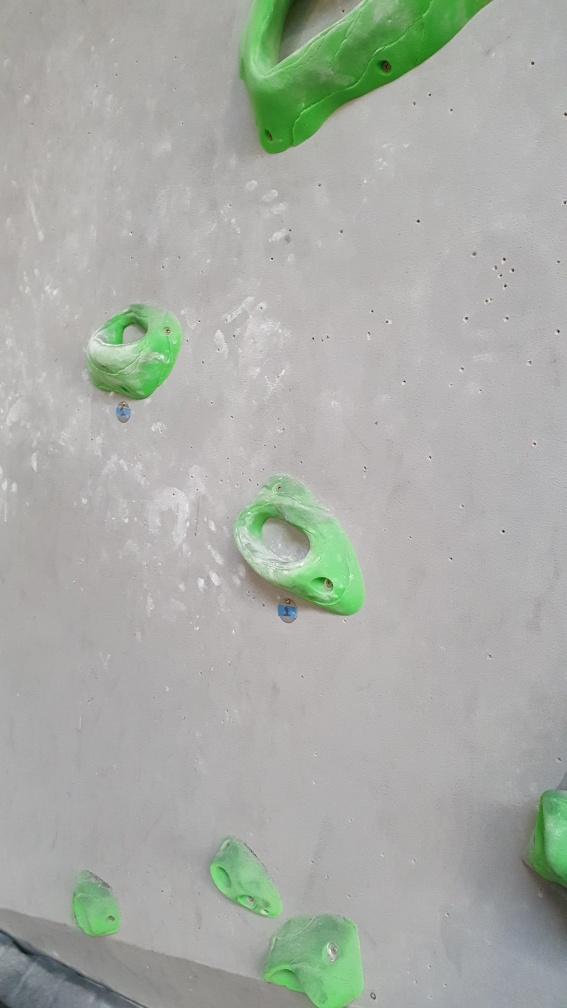Hand Start: (275, 597, 301, 627), (115, 400, 135, 425)
Pocket: (232, 1, 492, 157), (237, 472, 366, 616), (84, 302, 186, 400)
